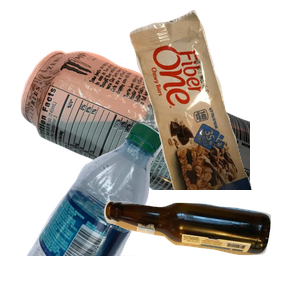glass: (101, 198, 300, 300)
metal: (18, 48, 258, 228)
plastic: (24, 120, 182, 300)
trash: (127, 10, 300, 190)
